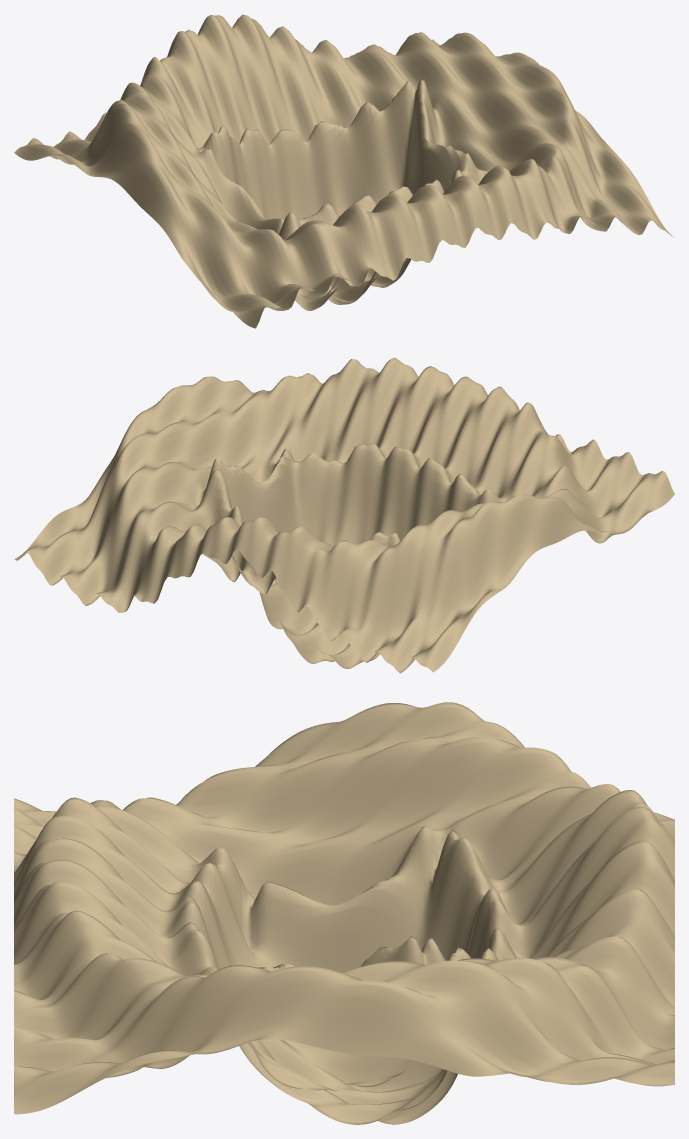
The model's file is sand.glb.
The picture shows the model from 3 angles, top to bottom: view 1: azimuth 30°, elevation 25°; view 2: azimuth 150°, elevation 25°; view 3: azimuth 270°, elevation 25°; orthographic projection. The views are drawn at different scales.
Visible parts, largest first — view 1: Sand heightfield terrain; view 2: Sand heightfield terrain; view 3: Sand heightfield terrain.
Part boxes in pixels (x1,y1,x2,y2): Sand heightfield terrain: (14,14,672,328); Sand heightfield terrain: (14,357,674,673); Sand heightfield terrain: (14,702,674,1124).
Bounding box in the file's own units: 2 × 1 × 2.
